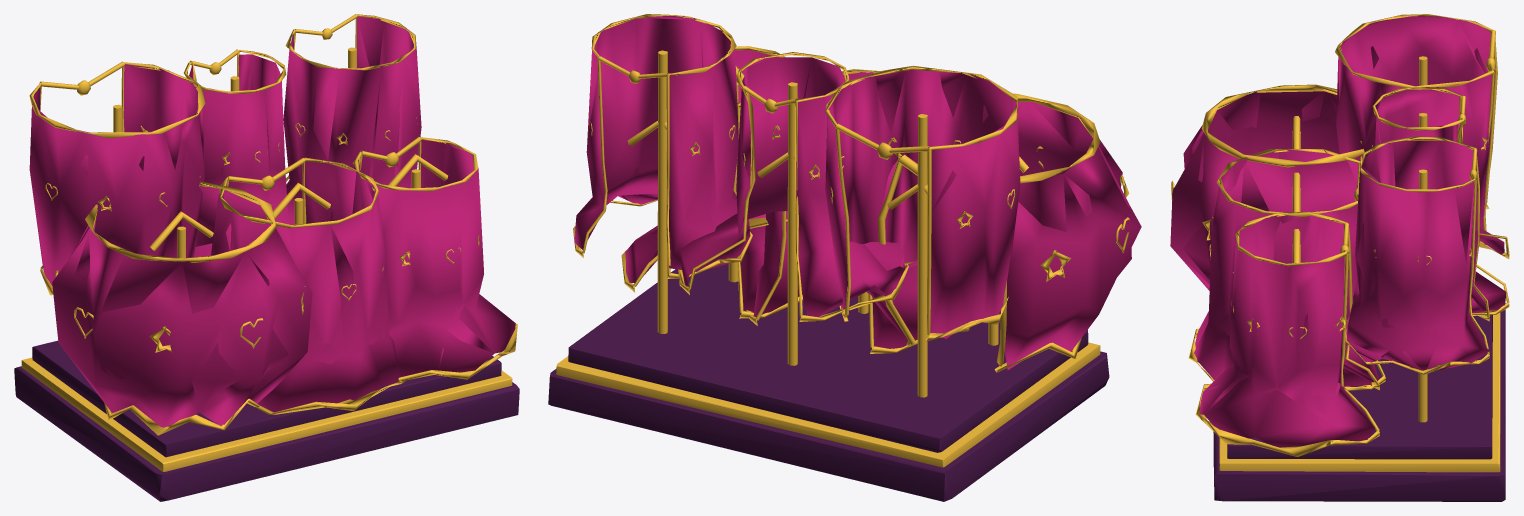
File: chess.set.velvet-court.glb
3 renders of one model, left to right at view 1: azimuth 30°, elevation 25°; view 2: azimuth 150°, elevation 25°; view 3: azimuth 270°, elevation 25°, orthographic. The views are drawn at different scales.
Parts seen in each view (by area): view 1: tailored_cape, tailored_cape.003, tailored_cape.001, tailored_cape.002, tailored_cape.005, display_base, tailored_cape.004, display_top, brass_band, tailored_binding, tailored_binding.012, tailored_binding.004 (+7 smaller); view 2: display_top, tailored_cape.003, tailored_cape.005, tailored_cape, tailored_cape.004, display_base, brass_band, tailored_cape.001, tailored_cape.002, hanger_stem.003, hanger_stem.005, hanger_stem.004 (+12 smaller); view 3: tailored_cape.005, tailored_cape.002, tailored_cape, tailored_cape.003, display_top, display_base, tailored_cape.001, brass_band, tailored_cape.004, tailored_binding, tailored_binding.009, tailored_binding.012 (+12 smaller).
Part boxes in pixels (x1,y1,x2,y2): tailored_cape: (52, 186, 312, 427); tailored_cape.003: (29, 64, 204, 286); tailored_cape.001: (211, 161, 399, 412); tailored_cape.002: (352, 139, 515, 377); tailored_cape.005: (283, 16, 421, 199); display_base: (14, 366, 519, 501); tailored_cape.004: (189, 54, 294, 257); display_top: (32, 340, 501, 457); brass_band: (21, 357, 512, 471); tailored_binding: (85, 181, 276, 262); tailored_binding.012: (29, 62, 205, 138); tailored_binding.004: (219, 157, 379, 228); display_top: (568, 263, 1088, 452); tailored_cape.003: (825, 69, 1020, 338); tailored_cape.005: (574, 16, 750, 271); tailored_cape: (867, 102, 1141, 370); tailored_cape.004: (680, 57, 904, 322); display_base: (548, 351, 1109, 501); brass_band: (556, 342, 1100, 467); tailored_cape.001: (752, 72, 917, 348); tailored_cape.002: (625, 50, 802, 314); hanger_stem.003: (917, 114, 927, 397); hanger_stem.005: (657, 50, 667, 333); hanger_stem.004: (787, 82, 797, 365); tailored_cape.005: (1346, 139, 1489, 370); tailored_cape.002: (1199, 215, 1375, 447); tailored_cape: (1170, 91, 1362, 290); tailored_cape.003: (1336, 16, 1494, 228); display_top: (1227, 315, 1492, 459); display_base: (1213, 303, 1505, 501); tailored_cape.001: (1194, 149, 1379, 386); brass_band: (1219, 312, 1500, 472); tailored_cape.004: (1352, 89, 1506, 313); tailored_binding: (1201, 84, 1364, 167); tailored_binding.009: (1195, 382, 1379, 456); tailored_binding.012: (1335, 14, 1494, 88).
Bounding box in the file's own units: 0.6817 × 0.4704 × 0.4668.
